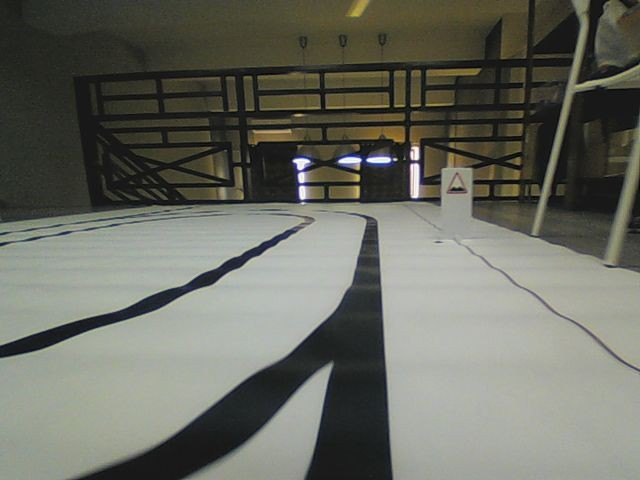Nerov: (445, 171, 467, 195)
